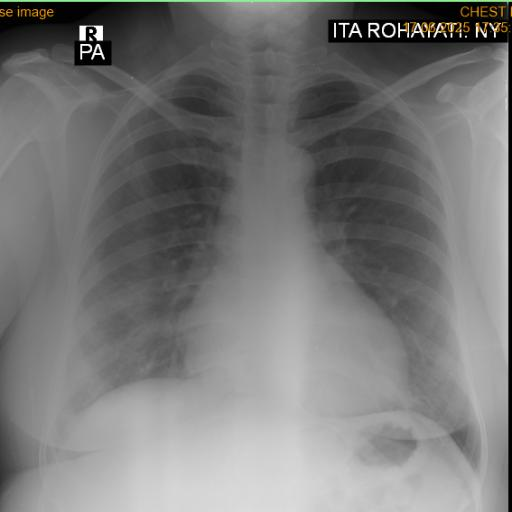kardiomegali: (42, 38, 489, 481)
